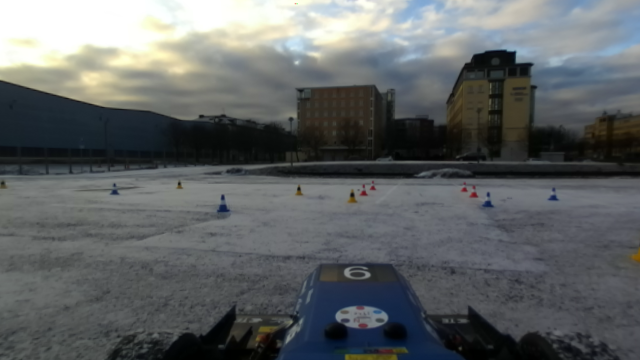blue: (214, 193, 232, 216), (547, 187, 560, 204), (483, 192, 494, 211), (108, 181, 119, 198)
orange: (459, 181, 468, 194)
yellow: (347, 188, 356, 205), (294, 184, 303, 198), (174, 179, 184, 191)
